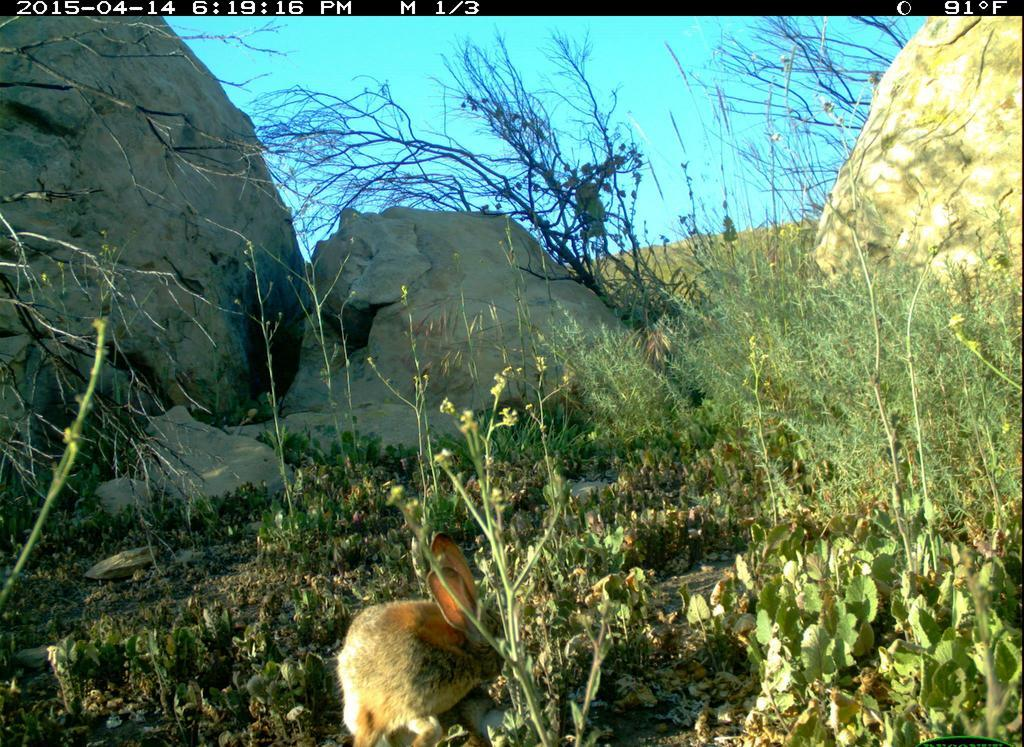rabbit: (335, 529, 514, 747)
